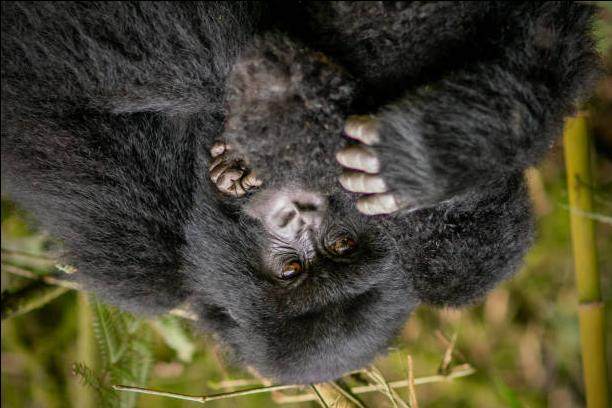goriile_montagne: (0, 2, 573, 404)
